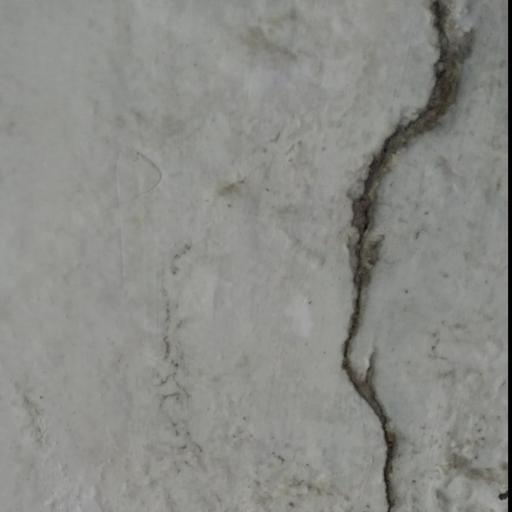major_crack: (331, 0, 478, 512)
